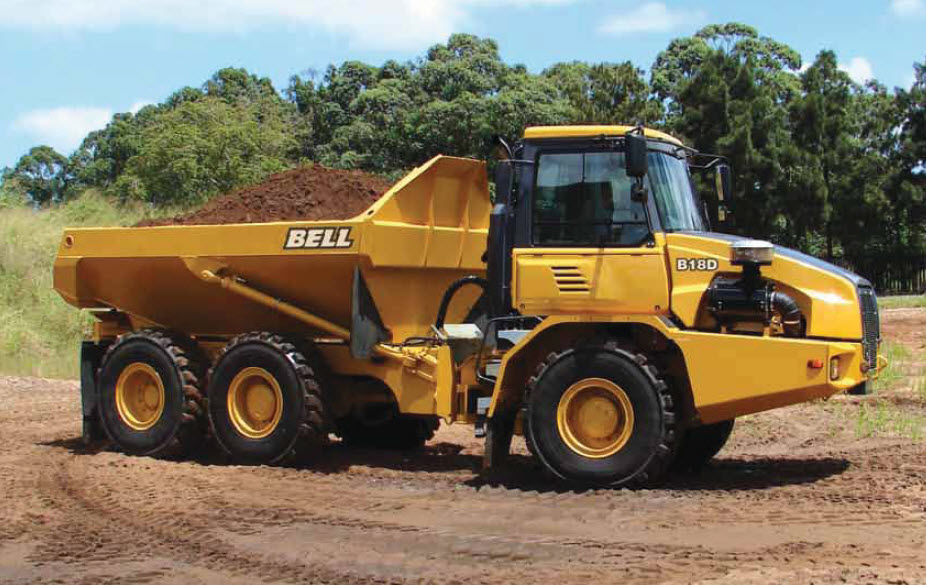truck: (47, 124, 886, 481)
